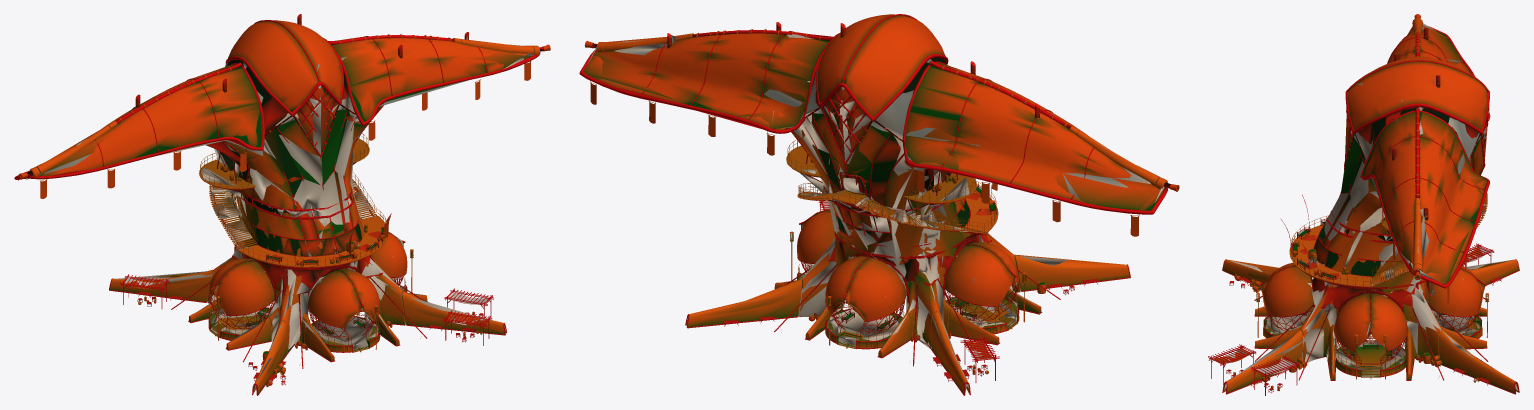
File: KB3D_GAE_BldgLG_C.glb
3 views of the same model, side by side, from view 1: azimuth 30°, elevation 25°; view 2: azimuth 150°, elevation 25°; view 3: azimuth 270°, elevation 25° (orthographic). The views are drawn at different scales.
Visible parts, largest first — view 1: L0, L1, L2; view 2: L0, L1, L2; view 3: L0, L1, L2.
Boxes of the visible parts, <box> form: L0: <box>14,14,550,395</box>; L1: <box>16,14,540,394</box>; L2: <box>40,36,533,390</box>; L0: <box>579,14,1179,395</box>; L1: <box>583,22,1166,393</box>; L2: <box>588,34,1164,391</box>; L0: <box>1208,14,1519,395</box>; L1: <box>1214,19,1518,394</box>; L2: <box>1224,23,1518,390</box>.
Bounding box in the file's own units: 84.76 × 41.45 × 42.86.
